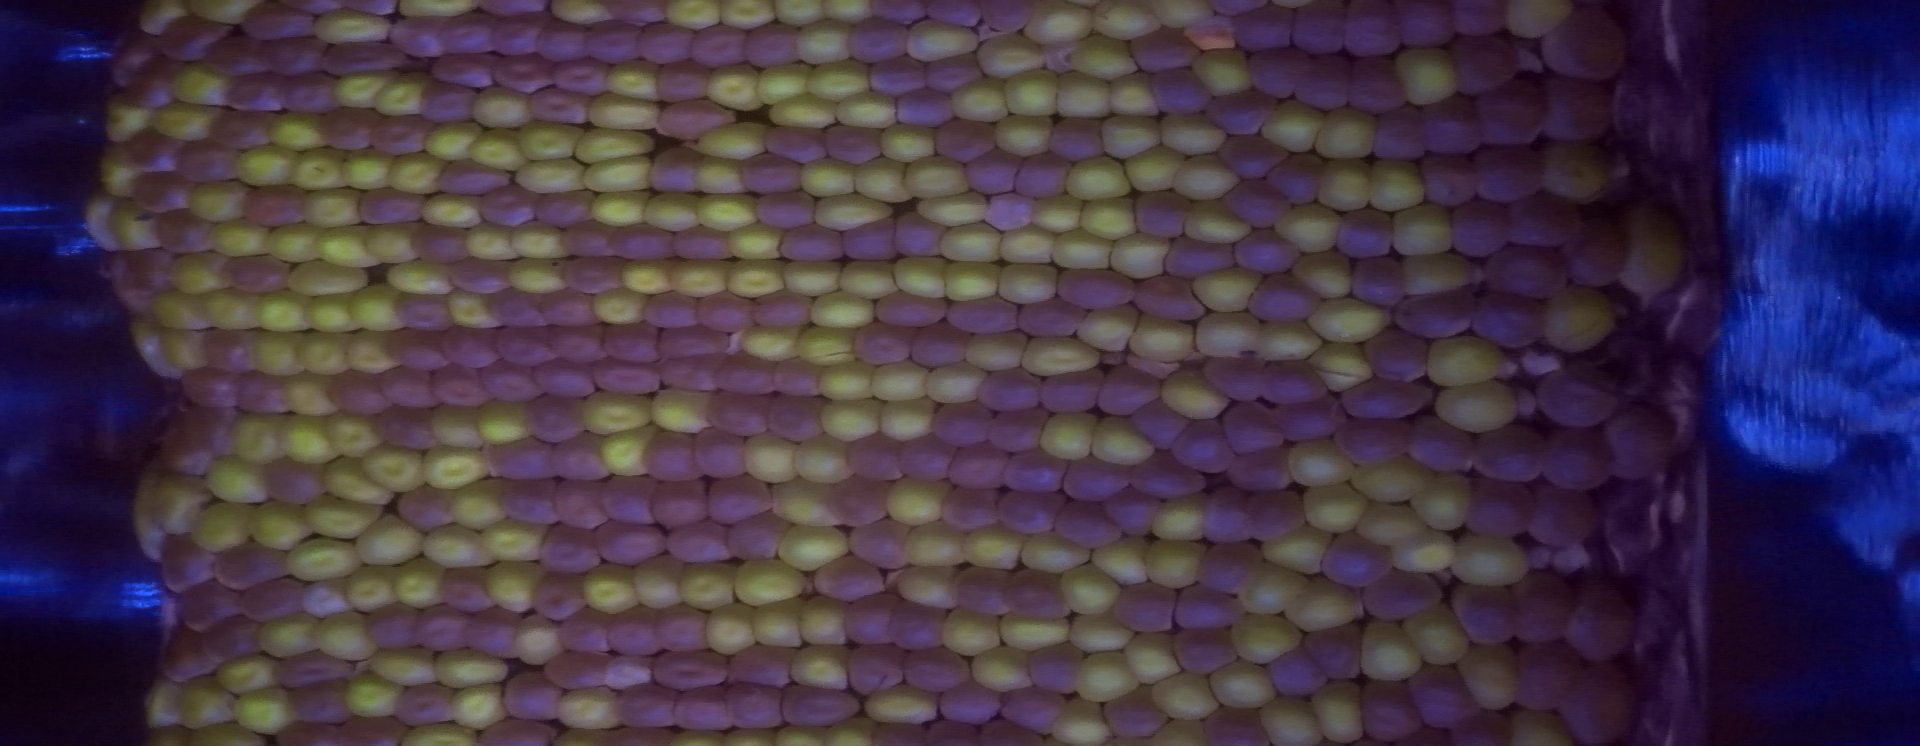fluorescent: (1622, 201, 1682, 303), (1423, 330, 1506, 392), (1545, 134, 1616, 205), (1457, 638, 1524, 713), (1430, 381, 1518, 434), (1161, 366, 1237, 425), (1307, 677, 1371, 746), (1547, 289, 1614, 354), (1403, 605, 1472, 669), (1353, 452, 1439, 501), (1297, 481, 1379, 532), (370, 643, 452, 693), (1073, 652, 1147, 704), (1452, 532, 1524, 586), (1060, 565, 1131, 619), (310, 492, 389, 540), (1311, 299, 1392, 345), (1284, 579, 1365, 626), (977, 31, 1051, 81), (1400, 45, 1461, 105), (1371, 156, 1430, 218), (733, 559, 808, 608), (1357, 622, 1422, 679), (1232, 612, 1303, 664), (1149, 673, 1222, 722), (1092, 416, 1157, 472), (773, 478, 838, 533), (1259, 98, 1325, 152), (553, 684, 632, 729), (432, 643, 511, 688), (480, 563, 549, 615), (1391, 200, 1453, 256), (1075, 303, 1145, 353), (1047, 696, 1117, 746), (175, 671, 234, 730), (1401, 250, 1474, 296), (649, 387, 719, 436), (1026, 1, 1097, 49), (1266, 527, 1337, 575), (253, 612, 321, 663), (866, 687, 947, 729), (774, 523, 846, 570), (229, 686, 301, 733), (1239, 565, 1308, 614), (904, 563, 967, 616), (362, 519, 427, 571), (1291, 252, 1357, 303), (940, 608, 1007, 658), (992, 610, 1074, 650), (1123, 631, 1182, 687), (1195, 311, 1267, 356), (1035, 409, 1100, 459), (1024, 336, 1100, 379), (425, 519, 495, 566), (252, 496, 309, 554), (306, 10, 394, 47), (1196, 263, 1262, 312), (598, 429, 658, 483), (790, 437, 857, 485), (680, 562, 747, 610), (1260, 695, 1322, 746), (213, 652, 282, 698), (1275, 205, 1340, 254), (580, 562, 640, 615), (902, 523, 969, 571), (429, 401, 491, 451), (588, 186, 659, 230), (582, 388, 653, 432), (708, 62, 767, 115), (633, 550, 686, 609), (1213, 661, 1280, 708), (1071, 614, 1138, 660), (1176, 154, 1237, 205), (1073, 38, 1140, 83), (885, 479, 949, 527), (1142, 540, 1206, 588), (743, 434, 801, 486), (1417, 474, 1474, 527), (991, 258, 1059, 303), (193, 503, 253, 554), (1067, 156, 1133, 201), (1160, 111, 1229, 154), (970, 646, 1032, 693), (789, 646, 856, 690), (327, 459, 391, 506), (591, 93, 662, 135), (509, 616, 568, 666), (1131, 320, 1196, 365), (207, 456, 272, 501), (812, 196, 898, 230), (751, 598, 811, 647), (916, 187, 991, 227), (1180, 203, 1255, 243), (966, 328, 1032, 372), (287, 261, 369, 296), (1098, 113, 1161, 159), (1315, 159, 1371, 211), (347, 671, 404, 722), (293, 537, 360, 579), (818, 396, 882, 441), (1501, 1, 1575, 40), (996, 110, 1056, 158), (940, 260, 1005, 304), (451, 682, 516, 726), (1292, 441, 1353, 488), (1392, 527, 1453, 573), (322, 222, 376, 274), (1318, 342, 1371, 394), (807, 59, 873, 102), (698, 194, 764, 236), (1360, 503, 1427, 546), (907, 21, 980, 60), (1091, 1, 1163, 40), (605, 59, 667, 104), (1316, 105, 1373, 156), (1198, 48, 1255, 97), (282, 416, 339, 465), (1124, 146, 1183, 194), (855, 156, 913, 203), (299, 328, 358, 376), (383, 263, 457, 301), (171, 62, 233, 108), (727, 257, 789, 303), (1054, 73, 1111, 122), (929, 361, 992, 405), (362, 448, 429, 490), (804, 590, 852, 648), (471, 86, 535, 129), (838, 261, 901, 304), (737, 323, 804, 364), (1096, 534, 1149, 586), (901, 159, 972, 197), (421, 450, 492, 488), (691, 152, 748, 198), (316, 610, 373, 657), (800, 325, 862, 367), (362, 220, 421, 266), (962, 524, 1021, 570), (803, 293, 876, 330), (1081, 196, 1141, 240), (954, 78, 1009, 126), (756, 62, 813, 108), (576, 126, 651, 160), (211, 220, 279, 258), (239, 145, 298, 189), (133, 463, 159, 563), (1022, 534, 1095, 570), (391, 149, 446, 196), (448, 288, 503, 334), (800, 21, 856, 66), (328, 415, 384, 461), (516, 121, 580, 160), (710, 600, 760, 650), (347, 332, 399, 380), (457, 478, 504, 530), (669, 257, 729, 299), (280, 372, 336, 418), (1151, 495, 1206, 540), (578, 159, 656, 191), (158, 105, 225, 142), (700, 119, 768, 156), (512, 220, 573, 261), (302, 292, 360, 334), (256, 330, 304, 381), (114, 198, 160, 251), (1004, 69, 1057, 115), (234, 415, 287, 462), (171, 252, 227, 296), (493, 521, 549, 565), (802, 157, 862, 197), (1052, 225, 1113, 265), (212, 285, 261, 334), (894, 254, 944, 301), (156, 289, 213, 331), (879, 402, 937, 443), (883, 119, 936, 164), (593, 289, 651, 330), (770, 94, 839, 129), (504, 257, 571, 293), (779, 258, 842, 295), (838, 96, 902, 131), (516, 160, 580, 196), (337, 70, 399, 107), (424, 194, 486, 230), (620, 258, 675, 300), (999, 228, 1059, 266), (269, 225, 329, 263), (1261, 321, 1318, 361), (1109, 71, 1160, 116), (342, 149, 392, 195), (396, 723, 492, 746), (473, 130, 527, 171), (294, 149, 353, 187), (102, 147, 148, 195), (427, 119, 478, 163), (197, 180, 253, 219), (1116, 235, 1167, 278), (942, 223, 1000, 260), (820, 364, 879, 401), (482, 402, 533, 445), (378, 78, 436, 115), (304, 191, 361, 228), (356, 287, 403, 332), (463, 223, 518, 261), (876, 361, 931, 399), (165, 480, 204, 532), (651, 190, 704, 228), (1033, 194, 1086, 232), (162, 330, 204, 376), (277, 116, 331, 153), (105, 98, 149, 142), (261, 290, 304, 336), (730, 223, 782, 260), (550, 1, 618, 29), (664, 1, 726, 32), (1155, 1, 1221, 29), (202, 719, 269, 746), (1149, 717, 1210, 746), (190, 1, 260, 27), (721, 1, 776, 33), (88, 195, 118, 254), (140, 1, 190, 36), (391, 1, 484, 20), (149, 674, 182, 724), (771, 1, 828, 29), (823, 715, 872, 746), (770, 722, 827, 746), (131, 318, 158, 369), (664, 725, 724, 746), (827, 1, 878, 24), (721, 724, 773, 746), (549, 726, 605, 746), (144, 723, 182, 746)
nonfluorescent: (1561, 664, 1640, 744), (1502, 570, 1573, 644), (1513, 636, 1581, 713), (1542, 16, 1626, 77), (1562, 588, 1633, 660), (1408, 661, 1476, 728), (1392, 287, 1477, 339), (1536, 426, 1605, 490), (1402, 416, 1474, 477), (1607, 401, 1667, 473), (1571, 208, 1624, 290), (107, 244, 171, 310), (1451, 36, 1523, 93), (1469, 472, 1529, 540), (1474, 293, 1545, 350), (1534, 377, 1611, 429), (1365, 568, 1439, 622), (1524, 485, 1594, 541), (1476, 428, 1544, 484), (1474, 140, 1538, 198), (1482, 249, 1556, 296), (214, 544, 289, 592), (1247, 272, 1318, 322), (1332, 416, 1413, 461), (1479, 85, 1537, 146), (1456, 582, 1513, 642), (1134, 274, 1206, 322), (1000, 686, 1069, 736), (705, 473, 770, 526), (1325, 534, 1391, 586), (198, 611, 258, 668), (158, 414, 213, 475), (844, 590, 901, 648), (644, 425, 700, 484), (1420, 99, 1480, 154), (464, 608, 527, 660), (1544, 86, 1608, 137), (1362, 328, 1427, 379), (1342, 379, 1428, 416), (1171, 589, 1242, 635), (1200, 352, 1267, 399), (1272, 392, 1340, 440), (1224, 179, 1288, 229), (599, 474, 662, 524), (827, 477, 890, 527), (1112, 583, 1176, 633), (1056, 267, 1134, 307), (1362, 685, 1420, 739), (1002, 446, 1069, 492), (482, 440, 557, 481), (1349, 254, 1407, 307), (1510, 197, 1575, 245), (651, 604, 711, 655), (1209, 89, 1275, 136), (1164, 236, 1234, 281), (781, 686, 860, 725), (500, 477, 562, 526), (373, 404, 441, 450), (1004, 570, 1071, 615), (850, 519, 909, 571), (173, 582, 241, 626), (945, 443, 1007, 492), (1227, 443, 1288, 492), (842, 432, 905, 480), (598, 521, 660, 568), (653, 475, 707, 530), (894, 597, 950, 649), (1307, 625, 1363, 677), (1300, 54, 1352, 111), (1371, 105, 1423, 163), (1127, 31, 1198, 72), (1168, 626, 1237, 669), (273, 650, 350, 688), (485, 11, 546, 59), (978, 365, 1040, 413), (607, 220, 673, 265), (929, 402, 992, 448), (262, 457, 324, 503), (1291, 2, 1344, 56), (156, 624, 211, 676), (1249, 47, 1305, 98), (1342, 1, 1400, 51), (1058, 503, 1125, 546), (503, 676, 567, 722), (725, 644, 798, 684), (951, 566, 1011, 614), (369, 111, 433, 156), (156, 17, 224, 59), (239, 578, 307, 620), (539, 528, 600, 575), (669, 521, 730, 567), (1354, 55, 1409, 107), (1217, 134, 1283, 176), (175, 137, 238, 183), (1174, 423, 1231, 473), (694, 429, 744, 485), (158, 530, 206, 589), (730, 514, 793, 559), (620, 682, 678, 730), (1060, 459, 1128, 501), (1104, 688, 1164, 735), (1021, 299, 1092, 338), (1090, 374, 1161, 413), (762, 120, 827, 163), (1150, 72, 1211, 118), (1450, 205, 1502, 257), (740, 152, 806, 194), (224, 252, 287, 296), (1131, 189, 1189, 236), (1338, 211, 1396, 258), (847, 646, 905, 693), (658, 100, 735, 136), (411, 605, 470, 652), (151, 212, 214, 255), (391, 288, 456, 330), (238, 2, 311, 39), (324, 369, 386, 413), (1128, 458, 1204, 494), (530, 573, 587, 621), (1224, 404, 1282, 451), (816, 555, 882, 595), (654, 653, 729, 688), (1264, 363, 1327, 404), (940, 486, 1000, 530), (748, 290, 816, 330), (898, 432, 951, 481), (729, 682, 784, 730), (847, 20, 909, 62), (442, 322, 500, 367), (182, 366, 241, 410), (553, 434, 606, 483), (388, 325, 442, 372), (1255, 492, 1303, 546), (1029, 646, 1082, 693), (1269, 647, 1322, 695), (1201, 548, 1261, 590), (1131, 404, 1188, 450), (365, 601, 421, 647), (931, 120, 996, 159), (964, 149, 1021, 194), (553, 480, 604, 530), (1051, 113, 1102, 162), (1427, 152, 1476, 203), (708, 390, 767, 432), (904, 646, 962, 688), (675, 688, 733, 731), (522, 397, 582, 439), (1000, 491, 1060, 533), (1014, 153, 1069, 198), (769, 394, 824, 440), (1198, 492, 1253, 538), (558, 608, 613, 653), (779, 224, 842, 263), (1266, 154, 1322, 198), (437, 158, 509, 192), (688, 24, 746, 67), (397, 684, 456, 725), (542, 650, 609, 687), (1238, 232, 1298, 272), (945, 300, 1021, 332), (323, 105, 381, 147), (825, 124, 883, 165), (200, 330, 257, 371), (1201, 709, 1273, 742), (126, 59, 171, 111), (855, 322, 913, 363), (225, 69, 280, 111), (278, 70, 334, 111), (411, 222, 468, 263), (359, 186, 422, 223), (449, 257, 513, 294), (394, 13, 446, 59), (653, 149, 704, 195), (1236, 5, 1288, 49), (419, 80, 473, 122), (989, 410, 1048, 450), (942, 684, 1000, 723), (873, 292, 945, 323), (654, 59, 709, 100), (245, 185, 307, 222), (396, 484, 451, 526), (432, 363, 484, 407), (660, 355, 726, 390), (482, 717, 560, 746), (430, 51, 493, 87), (844, 217, 896, 260), (609, 609, 661, 652), (478, 186, 535, 225), (440, 13, 493, 55), (135, 168, 189, 209), (716, 354, 775, 392), (380, 367, 435, 408), (108, 29, 153, 78), (1402, 1, 1452, 45), (660, 325, 732, 355), (638, 23, 694, 62), (563, 255, 621, 293), (207, 110, 271, 145), (746, 28, 800, 69), (602, 320, 656, 360), (907, 328, 969, 364), (133, 127, 181, 173), (531, 86, 587, 125), (542, 323, 606, 356), (540, 20, 589, 62), (260, 39, 328, 70), (240, 371, 283, 420), (1042, 375, 1097, 413), (584, 24, 643, 60), (493, 292, 550, 328), (535, 361, 595, 396), (896, 213, 944, 256), (492, 55, 550, 91), (1109, 491, 1158, 533), (479, 364, 538, 398), (323, 45, 405, 70), (591, 361, 662, 390), (444, 567, 490, 611), (347, 715, 411, 746), (493, 326, 547, 363), (757, 191, 812, 227), (545, 290, 600, 326), (533, 190, 593, 222), (866, 62, 924, 94), (898, 91, 951, 125), (560, 225, 613, 260), (289, 688, 351, 718), (211, 39, 268, 71), (645, 294, 700, 327), (1451, 712, 1512, 741), (549, 58, 609, 87), (283, 722, 354, 746), (926, 56, 982, 87), (1455, 2, 1502, 38), (981, 1, 1038, 31), (673, 230, 731, 260), (927, 717, 984, 746), (700, 295, 756, 326), (982, 717, 1038, 746), (774, 360, 820, 394), (987, 194, 1029, 228), (873, 722, 929, 746), (929, 5, 982, 26), (866, 2, 924, 20), (1202, 1, 1267, 11)
